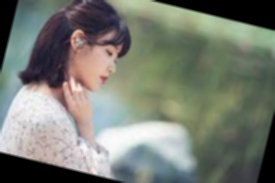earphone: (67, 28, 89, 56)
